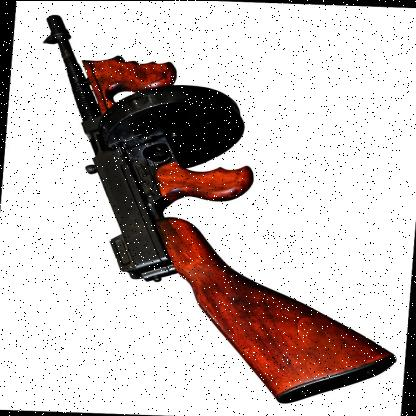rifle: (8, 12, 416, 407)
